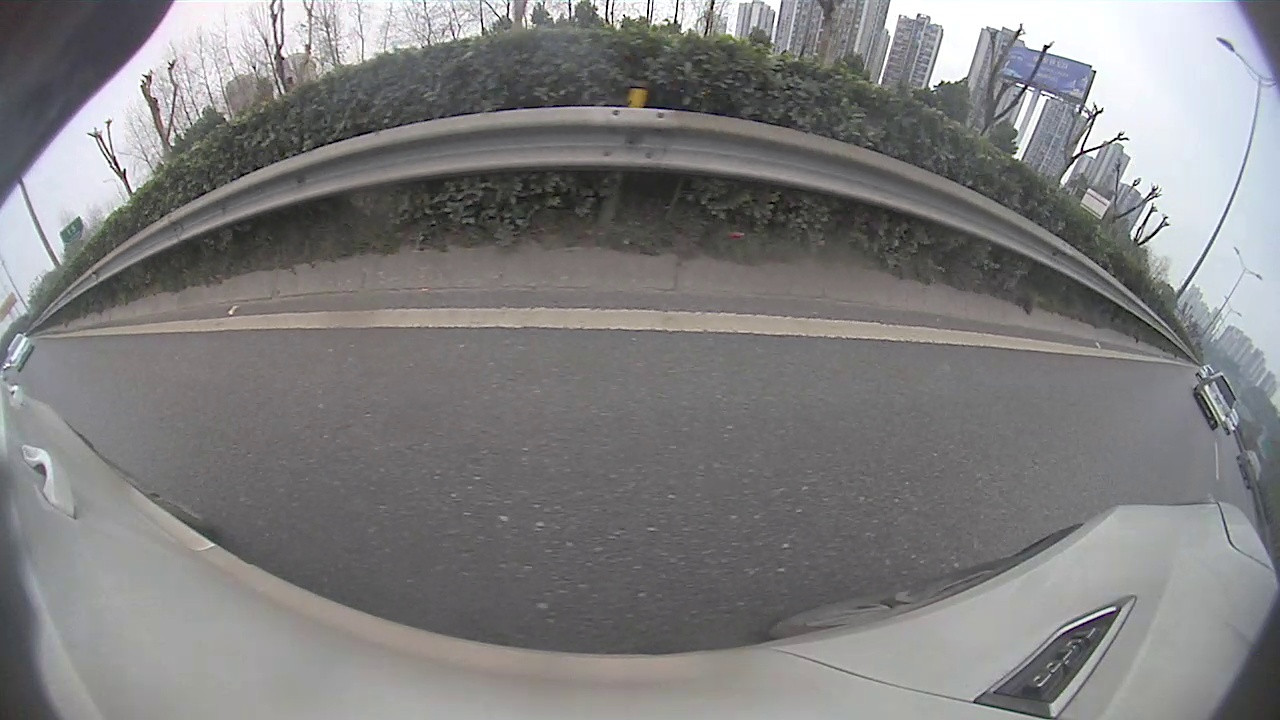car: (1196, 372, 1237, 430), (1237, 450, 1263, 490), (7, 334, 32, 371)
